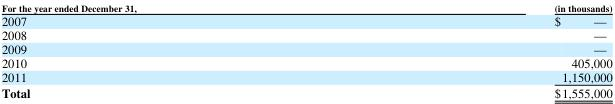table: (0, 1, 611, 101)
table column: (0, 1, 344, 101), (344, 1, 611, 101)
table column header: (0, 1, 611, 13)
table row: (0, 84, 611, 101), (0, 69, 611, 84), (0, 13, 611, 27), (0, 27, 611, 41), (0, 41, 611, 55), (0, 55, 611, 69), (0, 1, 611, 13)
